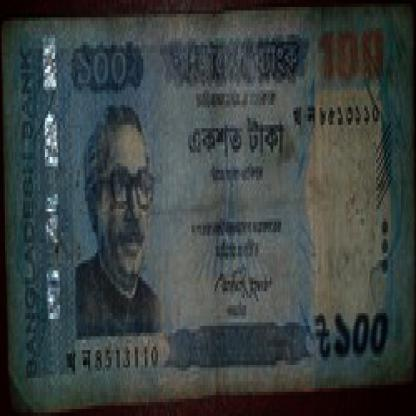one hundred taka: (313, 20, 388, 86), (333, 301, 391, 360), (74, 38, 132, 94)
